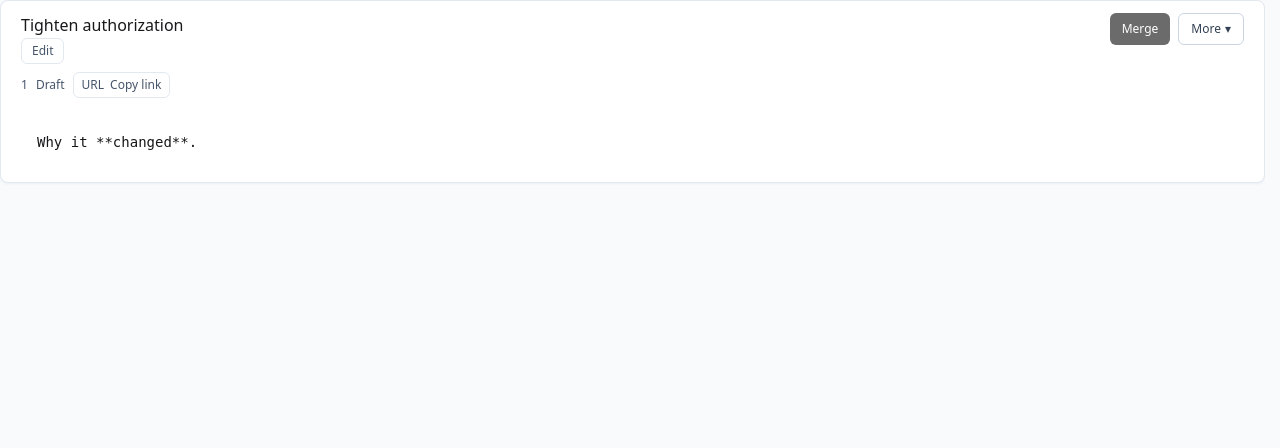
HeaderCard title and description › keeps the editor open and shows the error when saving fails
Click the button "Edit". click: (43, 51)
box: [21, 38, 64, 64]
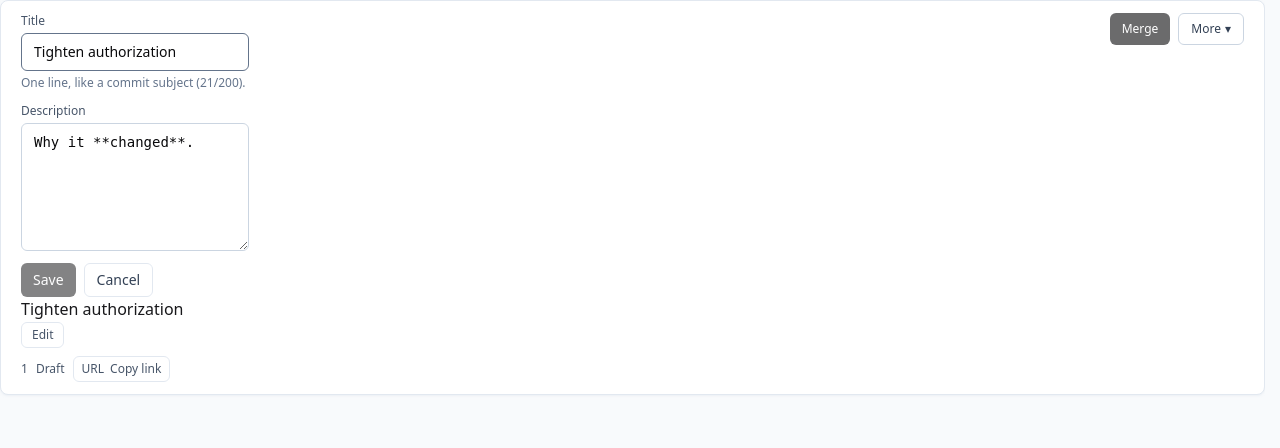
Replace the text in the field labelled "Title One line, like a commit subject (21/200)." with "x". click: (135, 52)
box: [21, 33, 249, 71]
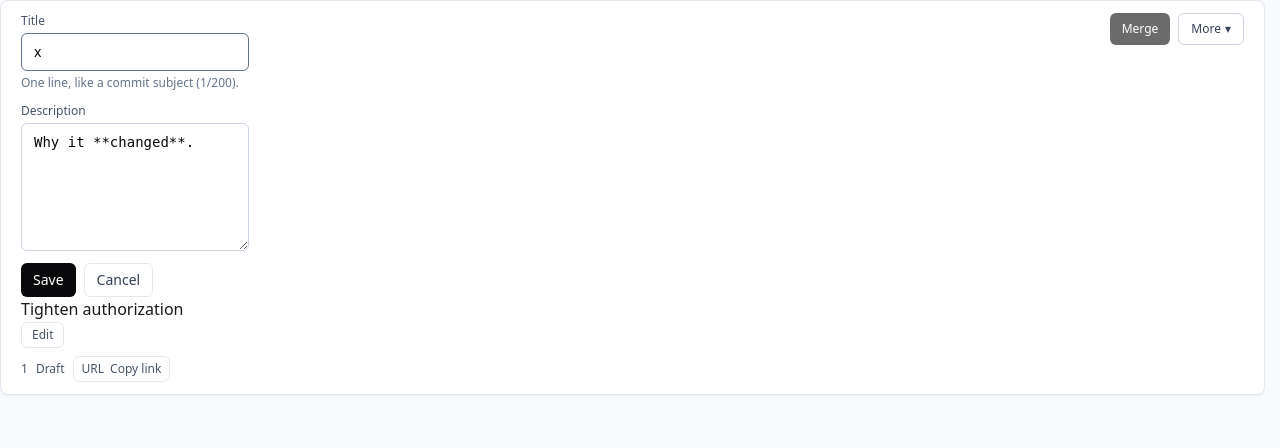
Click the button "Save". click: (48, 280)
box: [21, 263, 76, 297]
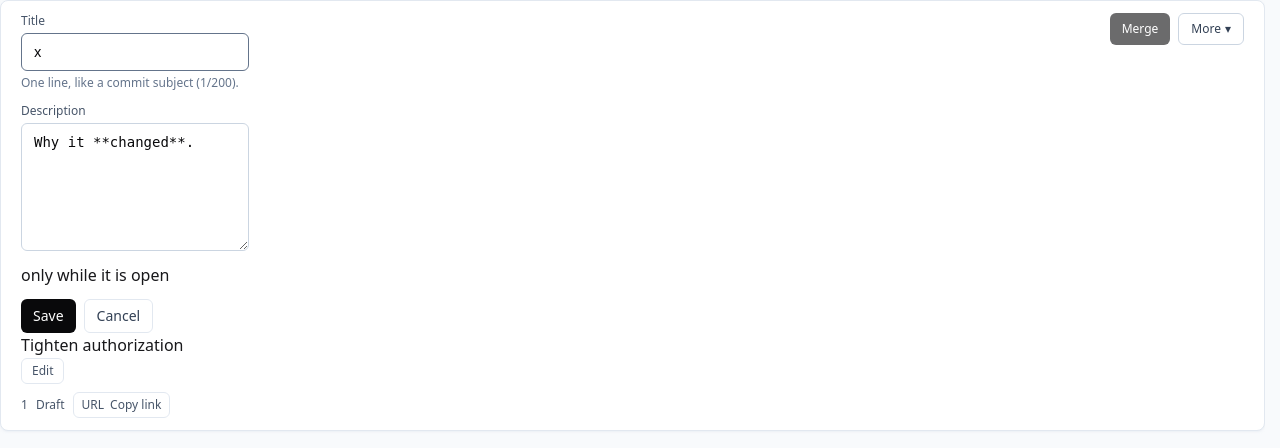
Result: the text box labelled "Description" is shown at [21, 123, 249, 251]
Result: the text "only while it is open" is shown at [21, 264, 169, 286]
